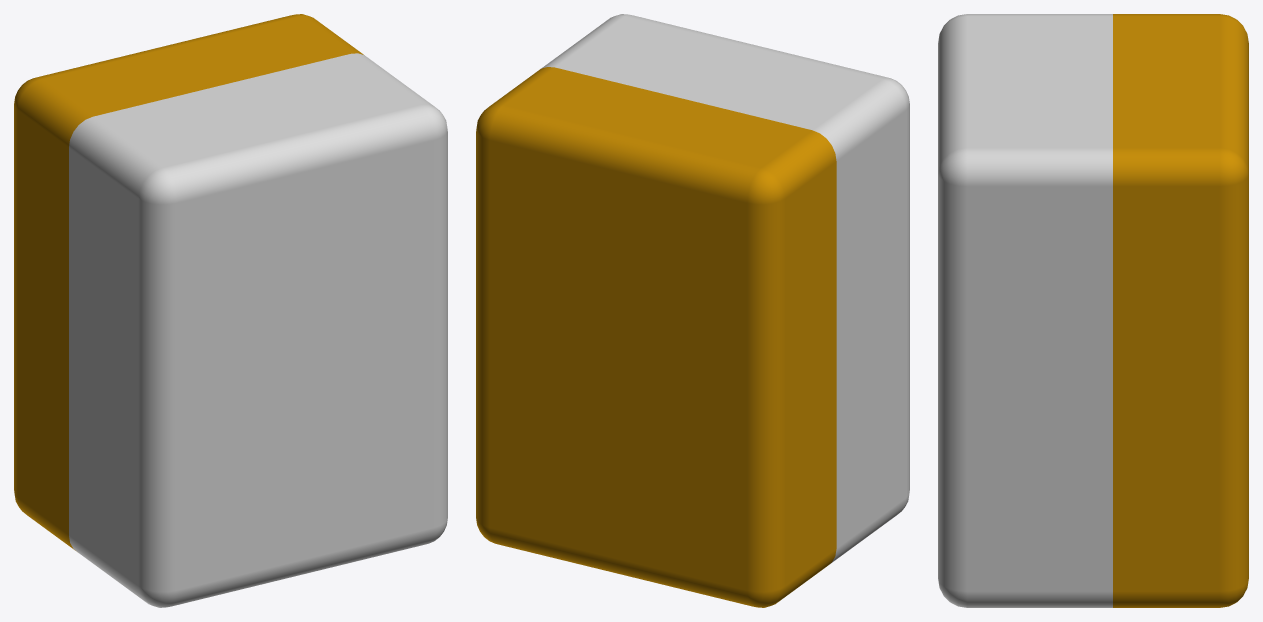
The model's file is tile.obj.
The picture shows the model from 3 angles, left to right: view 1: azimuth 30°, elevation 25°; view 2: azimuth 150°, elevation 25°; view 3: azimuth 270°, elevation 25°; orthographic projection. The views are drawn at different scales.
Visible parts, largest first — view 1: Tile; view 2: Tile; view 3: Tile.
Boxes of the visible parts, x1,y1,x2,y2 form: Tile: [14, 14, 447, 607]; Tile: [476, 14, 909, 607]; Tile: [938, 14, 1248, 607].
Bounding box in the file's own units: 0.019 × 0.026 × 0.016.
